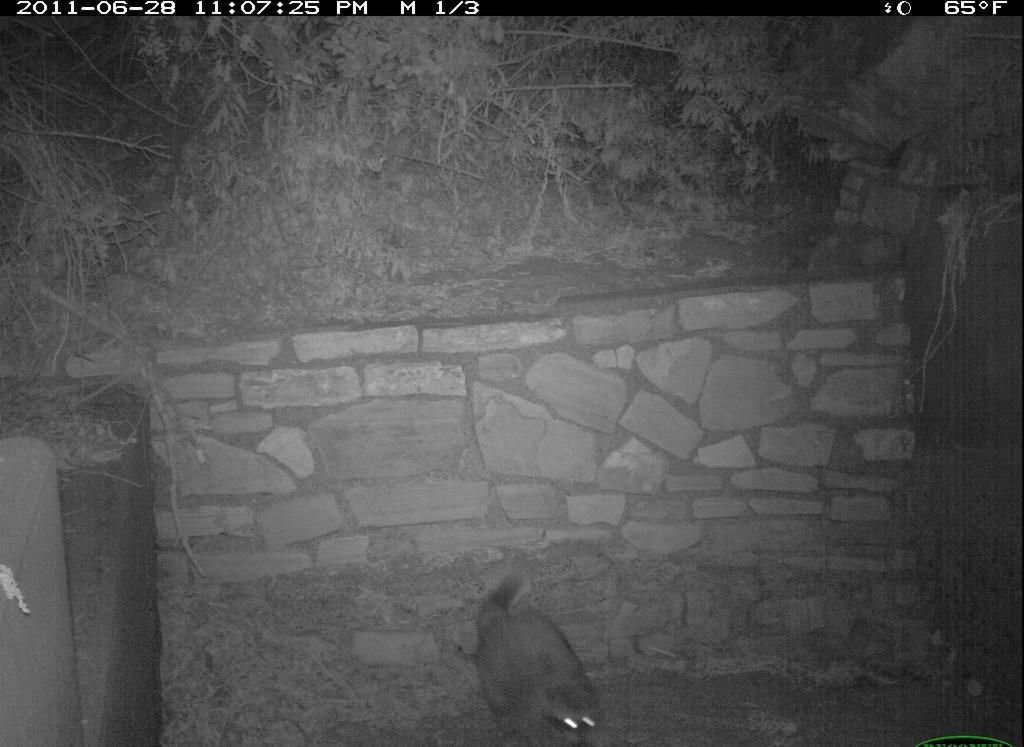raccoon: (473, 569, 614, 742)
